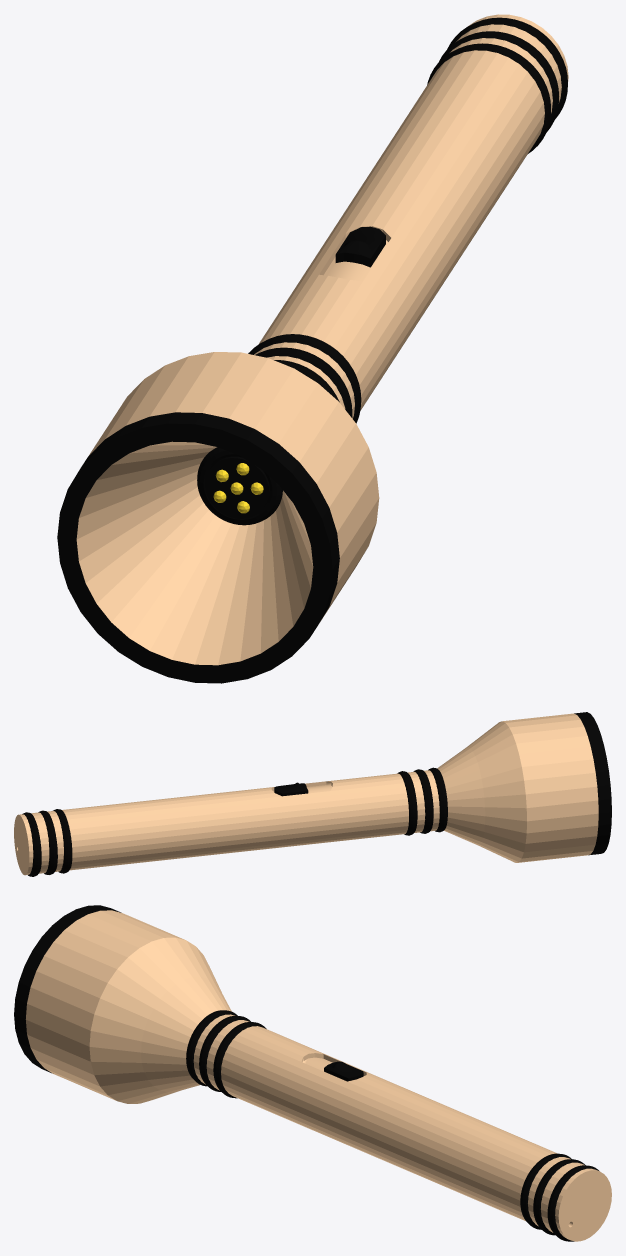
File: ToyObject_043.fbx
The picture shows the model from 3 angles, top to bottom: view 1: azimuth 30°, elevation 25°; view 2: azimuth 150°, elevation 25°; view 3: azimuth 270°, elevation 25°; orthographic projection. The views are drawn at different scales.
Visible parts, largest first — view 1: Object.077; view 2: Object.077; view 3: Object.077.
Part boxes in pixels (x1,y1,x2,y2): Object.077: (57,14,568,683); Object.077: (14,712,611,876); Object.077: (14,905,611,1241).
Bounding box in the file's own units: 0.1235 × 0.0358 × 0.1221.
